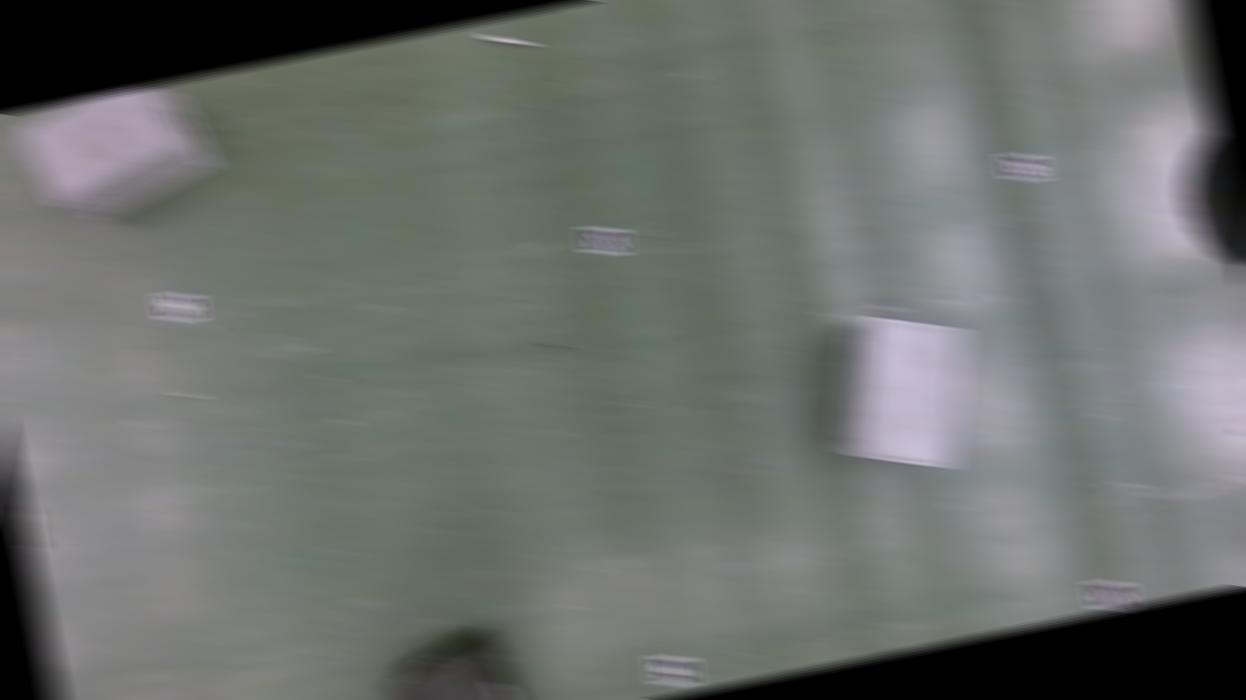probes: (482, 25, 536, 53), (13, 504, 40, 551), (1229, 404, 1246, 439)
rako: (2, 72, 248, 232), (802, 292, 989, 488), (373, 620, 539, 700)
